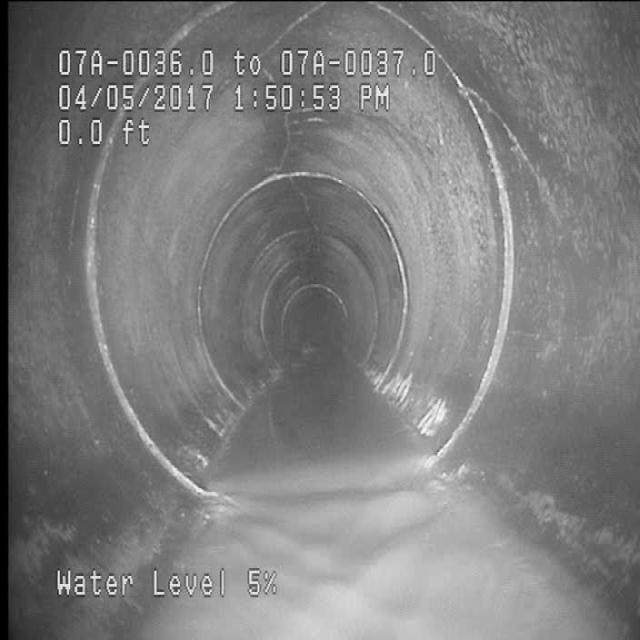Crack: (463, 61, 547, 196)
